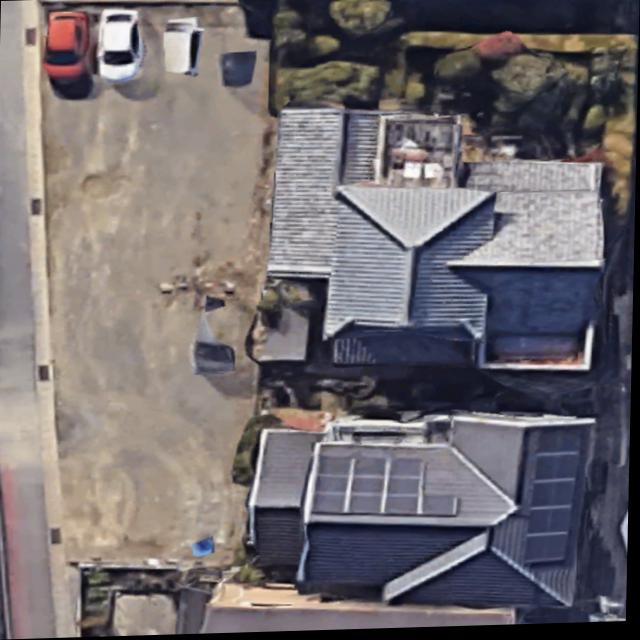Batiment: (269, 110, 604, 372), (250, 417, 592, 608)
